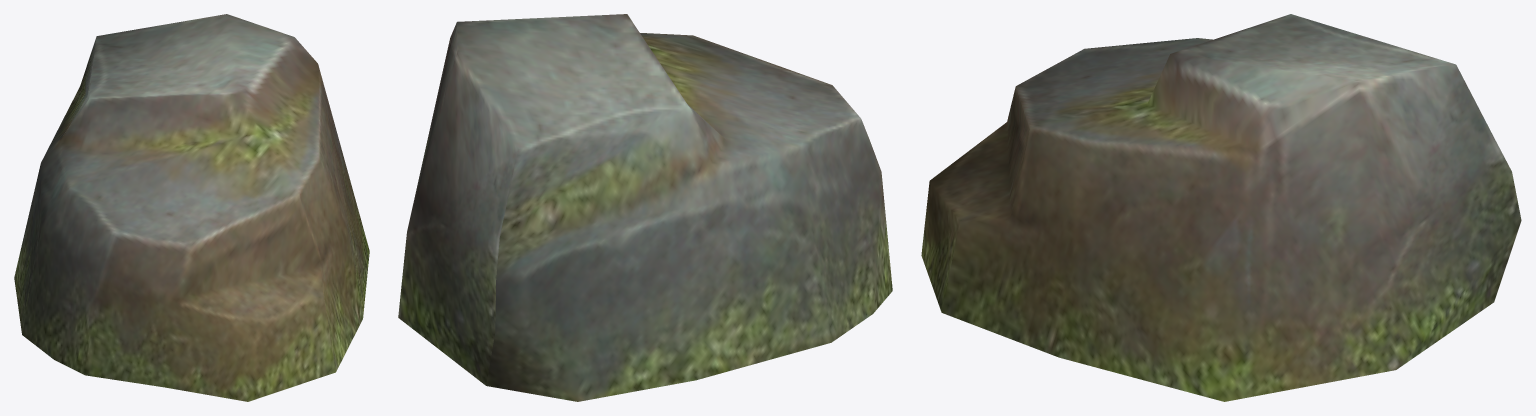
File: wlf_shitou07_w.FBX
3 renders of one model, left to right at view 1: azimuth 30°, elevation 25°; view 2: azimuth 150°, elevation 25°; view 3: azimuth 270°, elevation 25°, orthographic. The views are drawn at different scales.
Visible parts, largest first — view 1: wlf_shitou07_w; view 2: wlf_shitou07_w; view 3: wlf_shitou07_w.
Boxes of the visible parts, <box> form: wlf_shitou07_w: <box>14,14,369,401</box>; wlf_shitou07_w: <box>398,14,892,401</box>; wlf_shitou07_w: <box>921,14,1521,401</box>.
Size of the model in its own units: 29.81 by 17.89 by 36.43.
